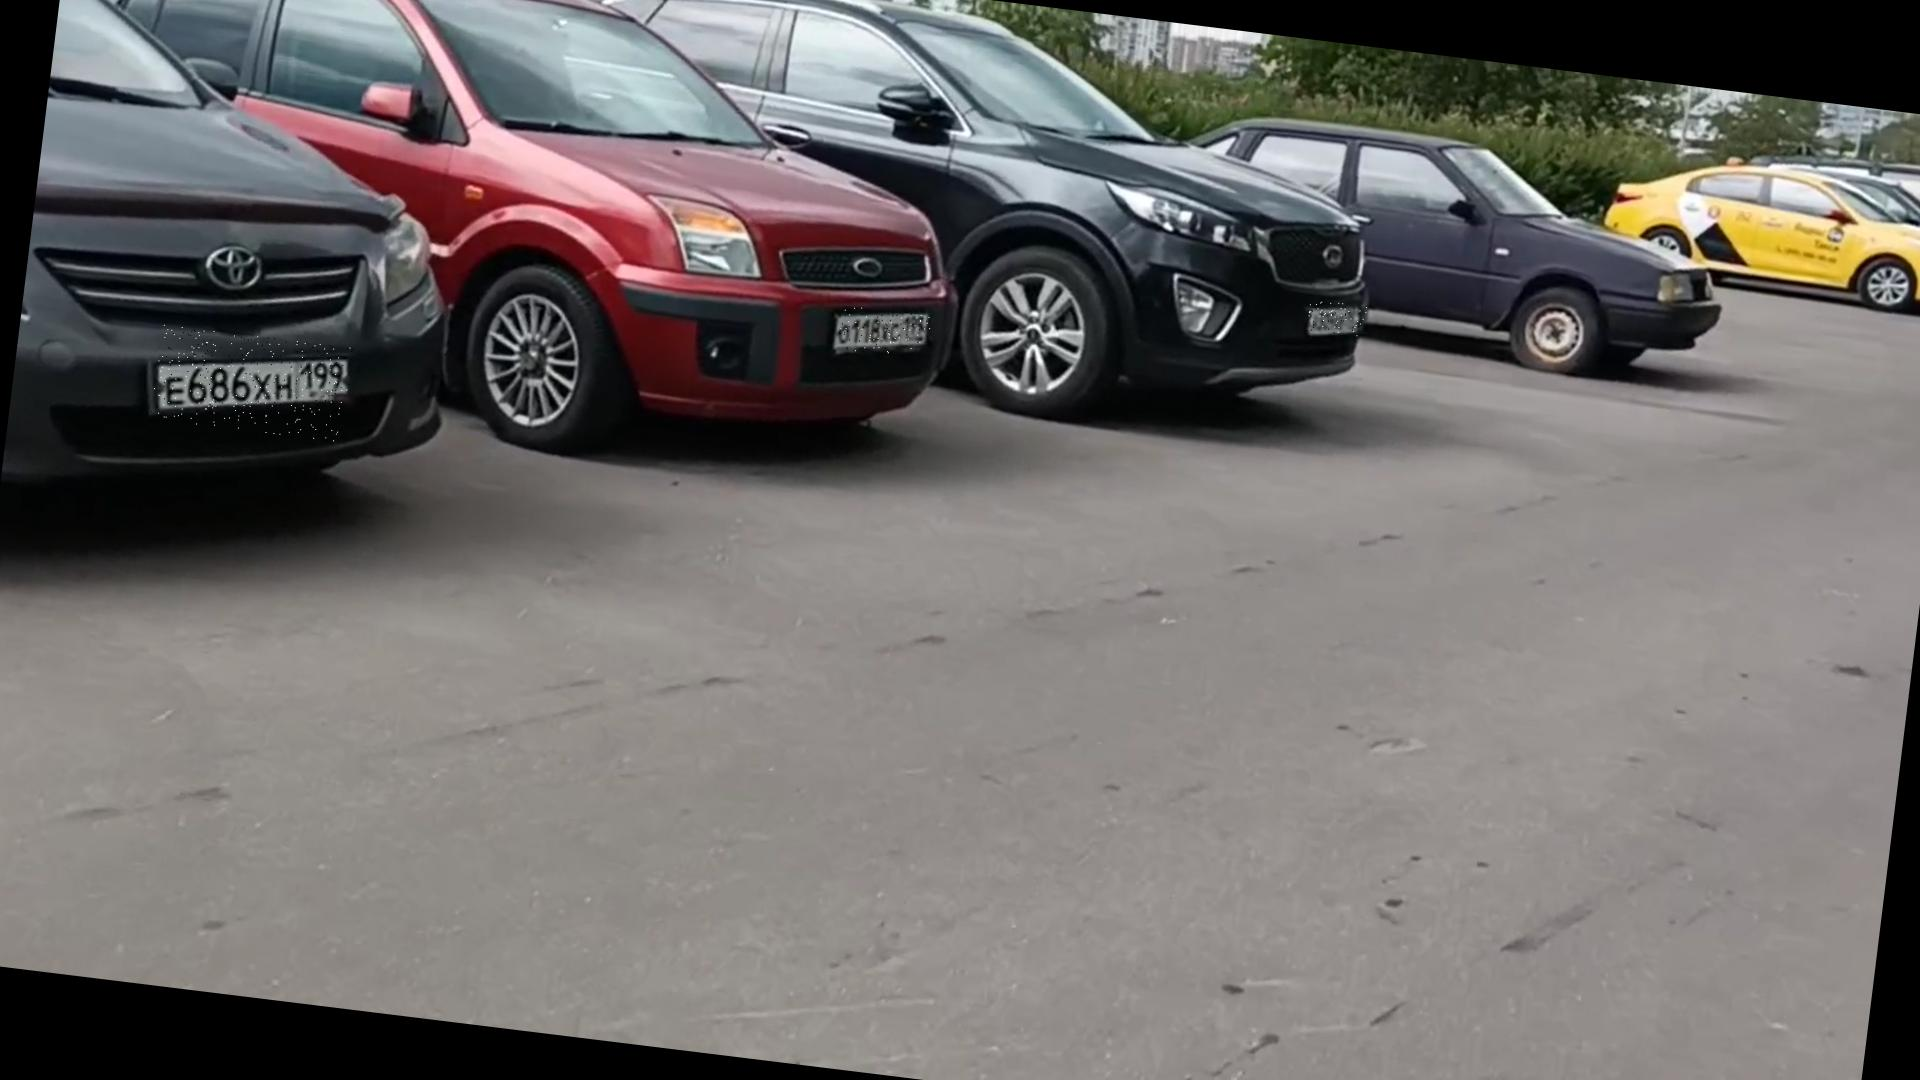plate: (151, 326, 356, 444), (838, 307, 933, 362), (1308, 299, 1369, 338)
